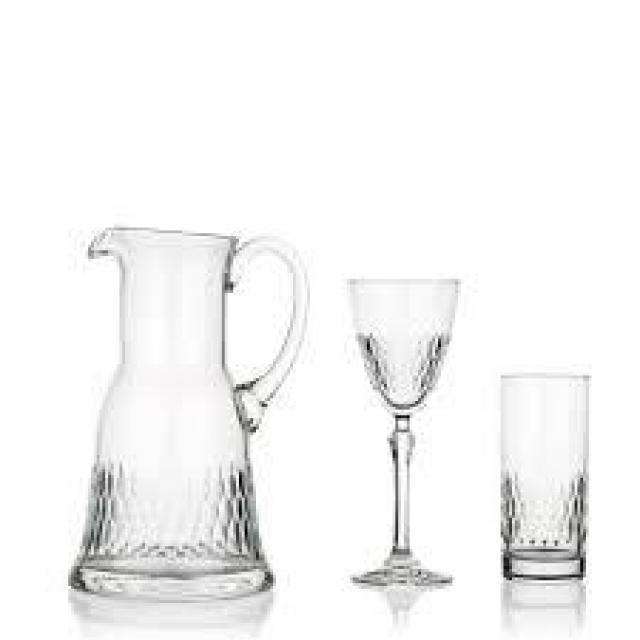non-organic waste: (64, 223, 314, 608), (340, 273, 462, 592), (496, 373, 590, 580)
